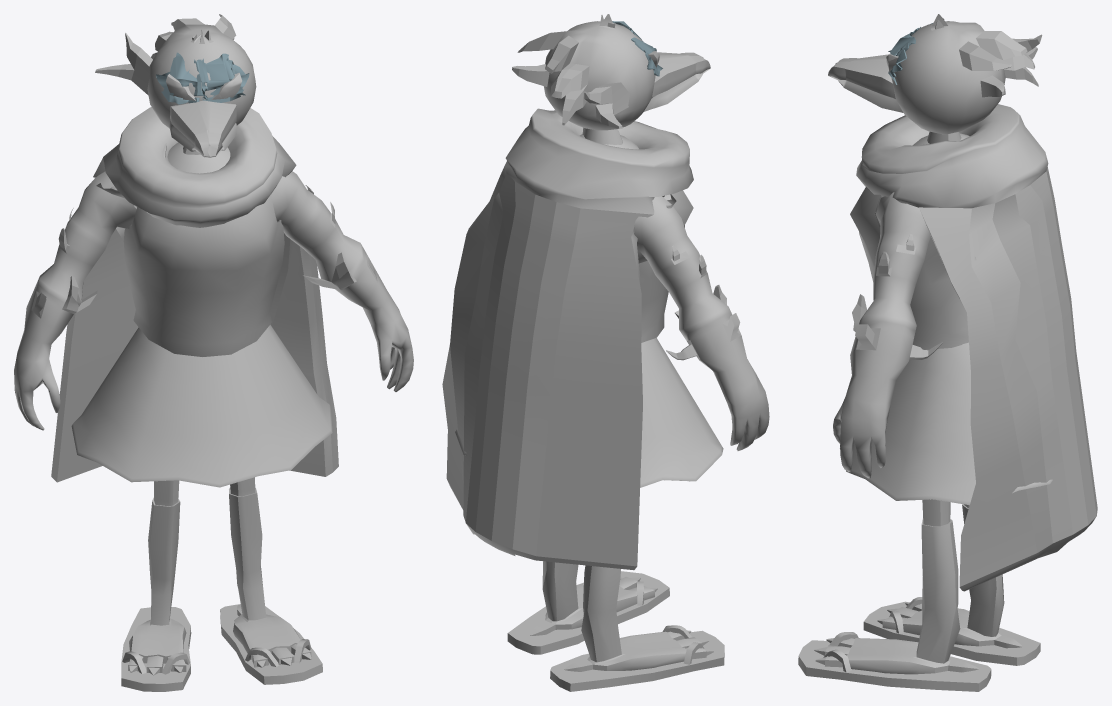
File: Cristata_clean01.fbx
3 renders of one model, left to right at view 1: azimuth 30°, elevation 25°; view 2: azimuth 150°, elevation 25°; view 3: azimuth 270°, elevation 25°, orthographic. The views are drawn at different scales.
Parts seen in each view (by area): view 1: pTorus1, Skirt, TankTop:TankTop, MonsterWolfman:wolfman2, MonsterWolfman:wolfman4, LLeg, RLeg, pSphere1, pCube1, pCube3, pSphere2; view 2: pTorus1, MonsterWolfman:wolfman2, pSphere1, RLeg, Skirt, LLeg, pCube1, TankTop:TankTop; view 3: pTorus1, MonsterWolfman:wolfman4, Skirt, LLeg, pSphere1, RLeg, TankTop:TankTop, pCube1, pCube3.
Boxes of the visible parts, x1,y1,x2,y2 form: pTorus1: (51,107,338,482); Skirt: (71,324,332,487); TankTop:TankTop: (123,143,284,356); MonsterWolfman:wolfman2: (14,171,136,430); MonsterWolfman:wolfman4: (271,171,413,391); LLeg: (220,477,322,684); RLeg: (121,480,191,691); pSphere1: (95,14,256,154); pCube1: (169,100,236,157); pCube3: (156,52,249,104); pSphere2: (167,142,230,173); pTorus1: (442,108,693,570); MonsterWolfman:wolfman2: (634,196,769,450); pSphere1: (512,14,655,144); RLeg: (550,565,724,691); Skirt: (455,338,723,487); LLeg: (507,561,669,654); pCube1: (644,52,710,111); TankTop:TankTop: (639,190,693,342); pTorus1: (856,104,1097,591); MonsterWolfman:wolfman4: (833,192,942,478); Skirt: (840,342,1052,505); LLeg: (798,499,991,691); pSphere1: (891,14,1042,143); RLeg: (863,504,1040,665); TankTop:TankTop: (850,186,968,349); pCube1: (828,54,903,112); pCube3: (888,23,932,84).
Bounding box in the file's own units: 7.09 × 12.43 × 5.23.
